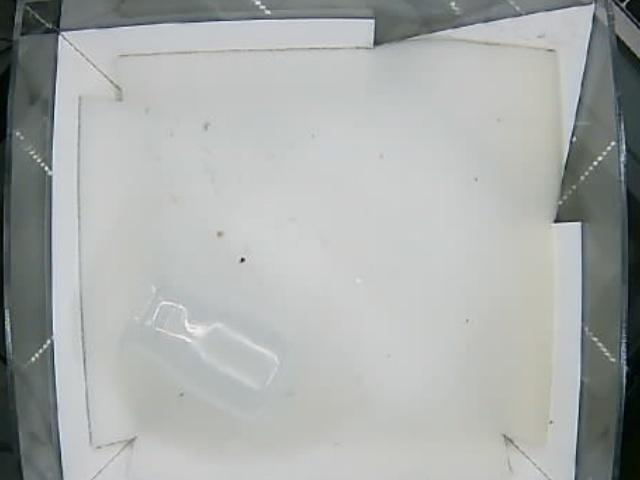Bottle: (116, 276, 300, 423)
